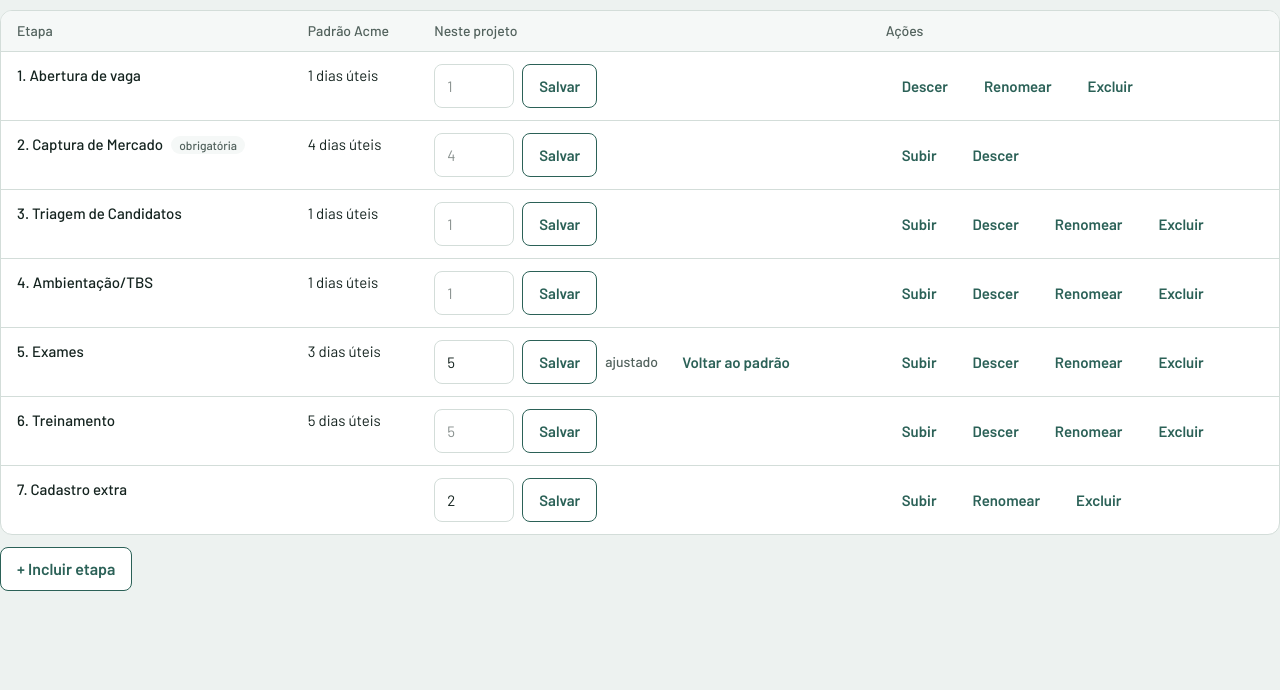
Scenario: cancelar a exclusão fecha a confirmação
The image size is (1280, 690).
Click the button named "Excluir Treinamento".
click(1181, 431)  # box 1142,409 -> 1220,453
(page scrolled)
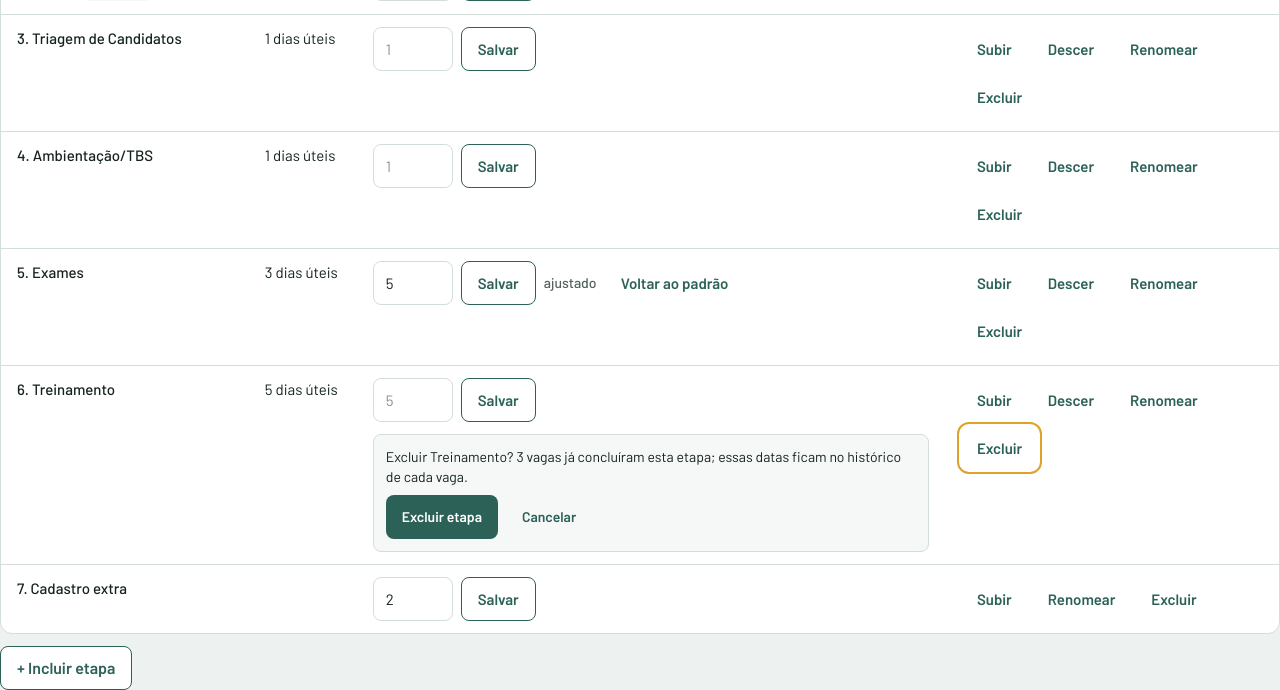
Click the button "Cancelar".
click(549, 517)  # box 506,495 -> 592,539
(page scrolled)
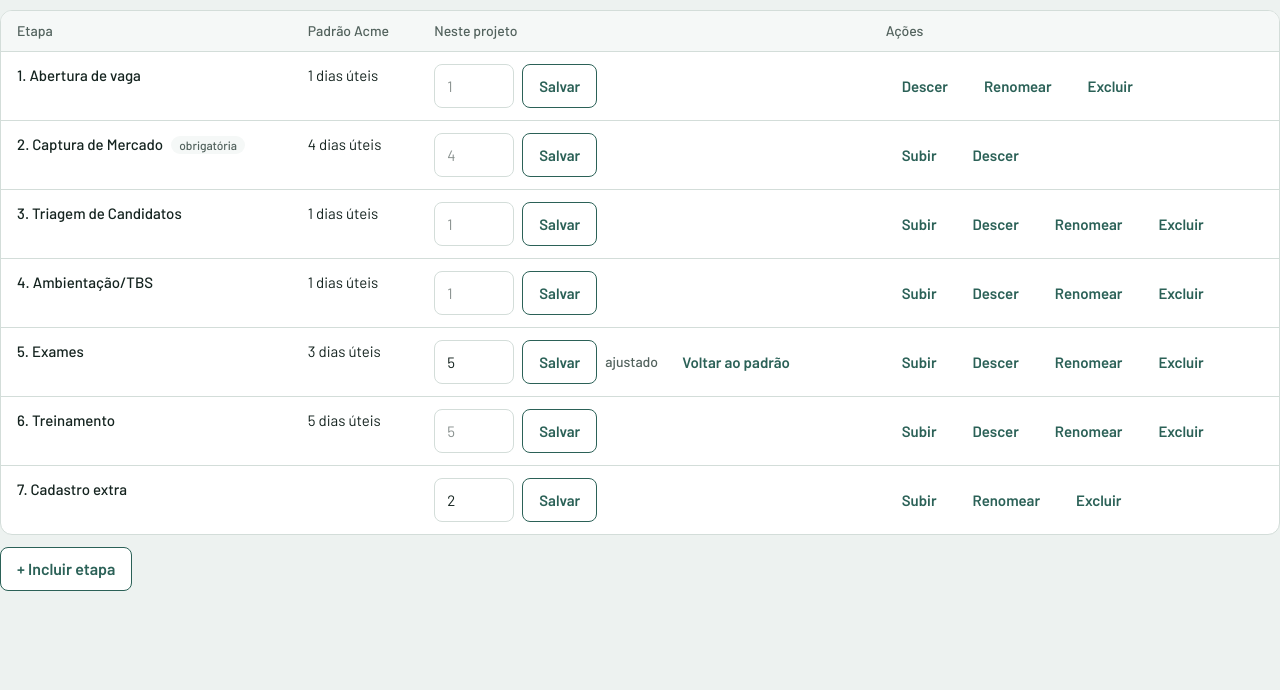
Expected: the button "Excluir etapa" is gone
